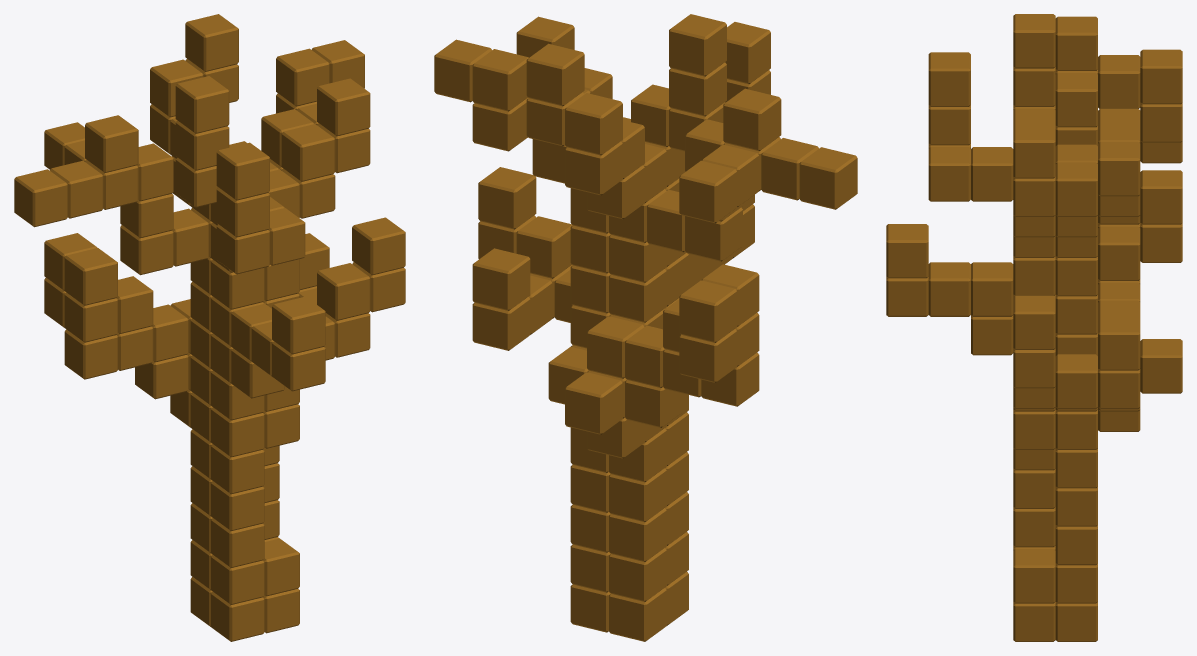
Rendered from TreeVoxel.fbx.
3 views of the same model, side by side, from view 1: azimuth 30°, elevation 25°; view 2: azimuth 150°, elevation 25°; view 3: azimuth 270°, elevation 25° (orthographic). The views are drawn at different scales.
Visible parts, largest first — view 1: pCube3163; view 2: pCube3163; view 3: pCube3163.
Boxes of the visible parts, x1,y1,x2,y2 form: pCube3163: (14,14,405,641); pCube3163: (434,14,857,641); pCube3163: (886,14,1182,641).
Size of the model in its own units: 5 by 7.5 by 3.5.
